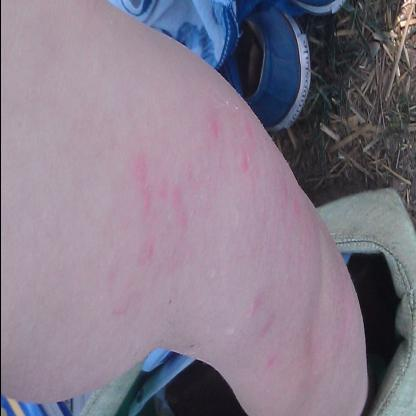Bed Bug: (158, 165, 198, 246), (130, 127, 155, 214), (244, 289, 282, 343), (99, 243, 123, 290), (203, 98, 224, 146), (110, 292, 132, 334), (134, 236, 155, 272), (260, 347, 280, 377), (290, 190, 304, 226), (276, 168, 288, 210), (238, 118, 260, 140), (234, 148, 252, 174)
